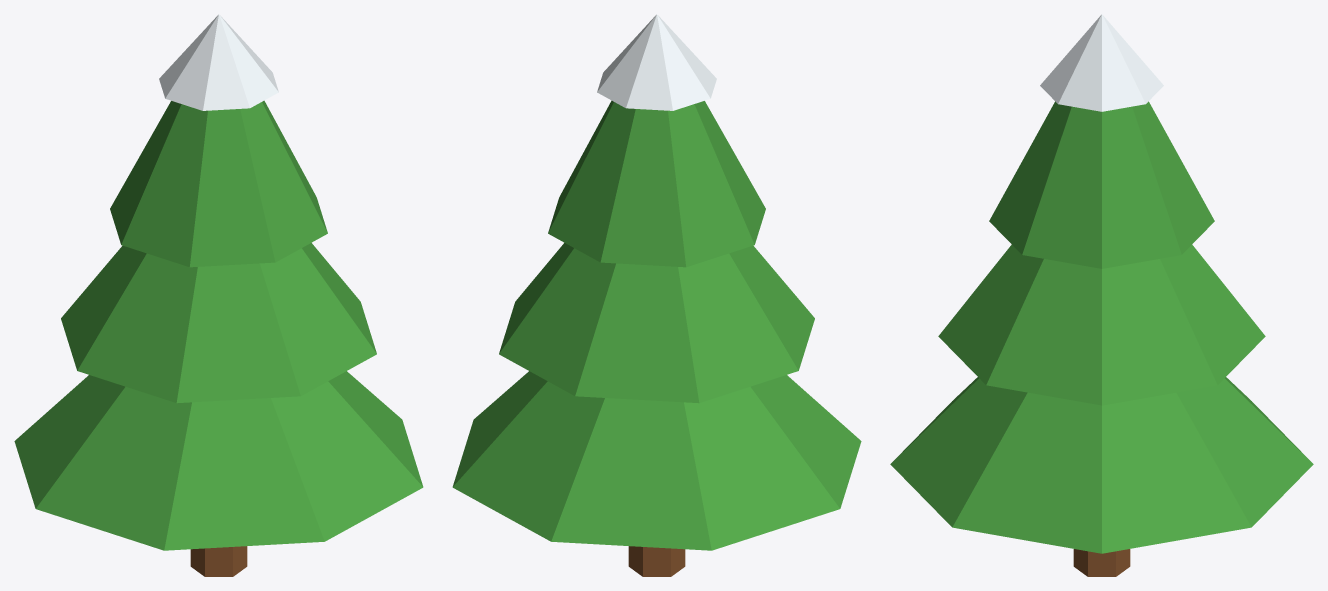
The model's file is prop_snowy_pine.glb.
3 renders of one model, left to right at view 1: azimuth 30°, elevation 25°; view 2: azimuth 150°, elevation 25°; view 3: azimuth 270°, elevation 25°, orthographic.
Parts seen in each view (by area): view 1: prop_snowy_pine; view 2: prop_snowy_pine; view 3: prop_snowy_pine.
Part boxes in pixels (<box>): prop_snowy_pine: <box>14,14,423,576</box>; prop_snowy_pine: <box>452,14,861,576</box>; prop_snowy_pine: <box>890,14,1313,576</box>.
Bounding box in the file's own units: 1.5 × 2.16 × 1.5.
